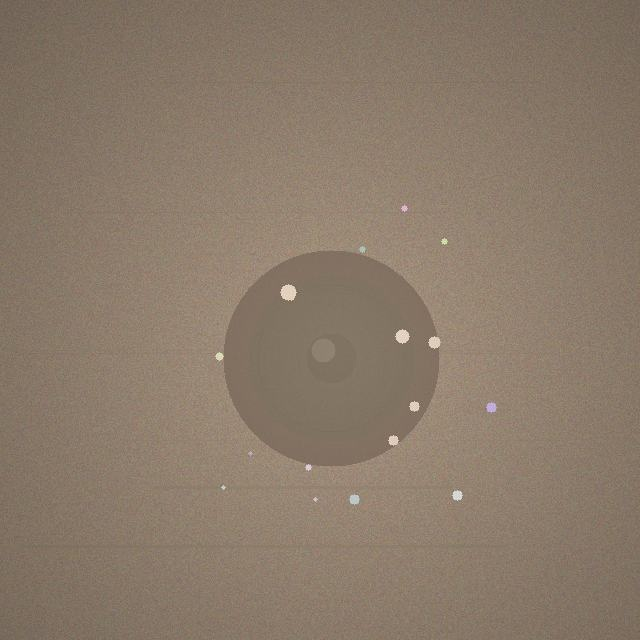overburn: (223, 250, 439, 466)
